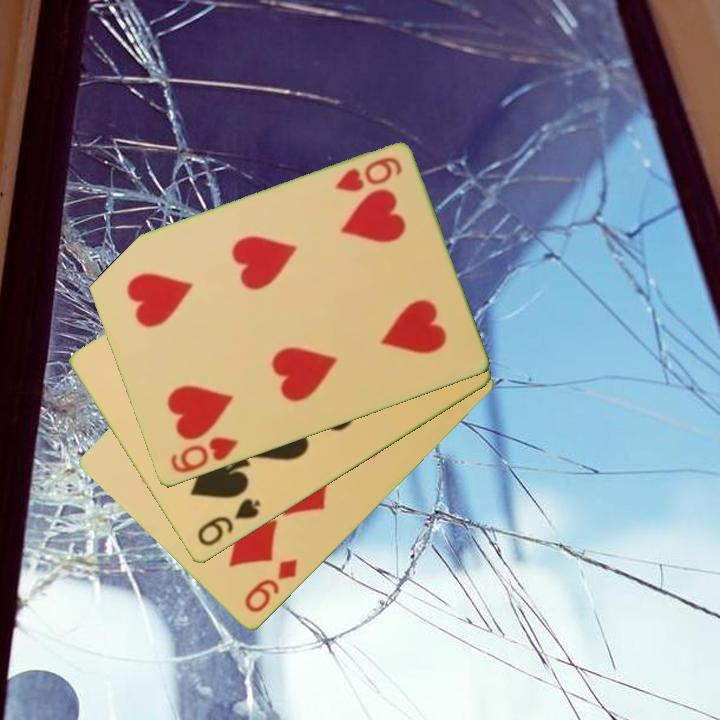6h: (166, 433, 241, 477), (331, 153, 405, 196)
9d: (241, 555, 301, 616)
9s: (193, 495, 264, 550)
